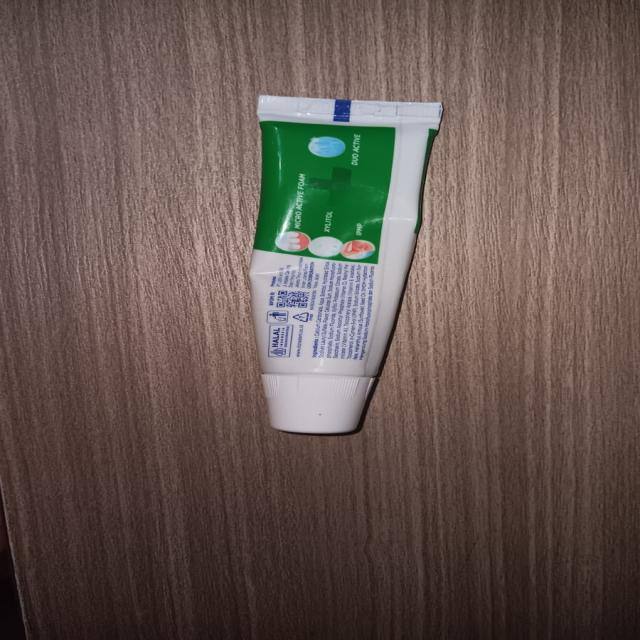zat_kimia: (249, 96, 442, 434)
